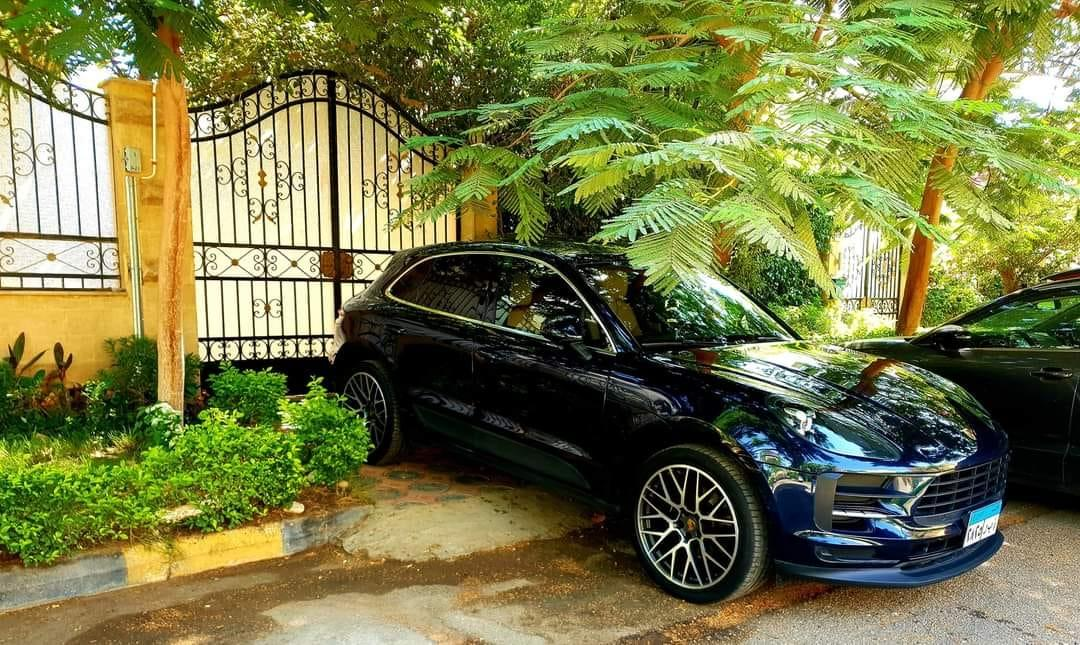porsche: (958, 421, 981, 443)
